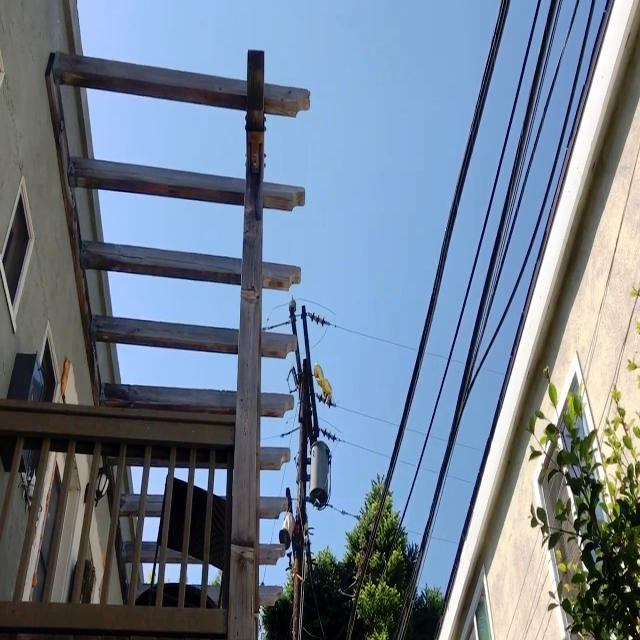obstruction: (314, 363, 332, 400)
poles: (278, 299, 330, 639)
wires: (308, 310, 418, 351), (320, 418, 390, 459), (320, 403, 399, 426), (330, 504, 360, 519), (476, 363, 504, 379), (263, 316, 290, 331), (271, 425, 298, 437), (456, 441, 480, 451), (431, 536, 456, 543), (431, 434, 447, 444), (409, 428, 425, 438), (400, 459, 416, 469), (450, 476, 470, 484), (426, 351, 448, 358), (404, 526, 420, 535), (421, 468, 438, 476), (450, 359, 463, 368)
